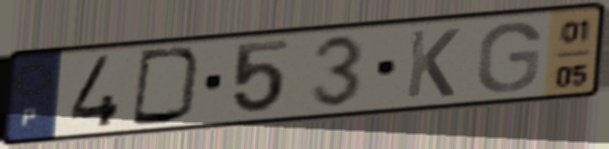3: (308, 32, 369, 111)
4: (67, 52, 123, 129)
5: (230, 39, 295, 117)
D: (128, 45, 207, 128)
G: (473, 19, 545, 95)
K: (402, 26, 463, 101)
